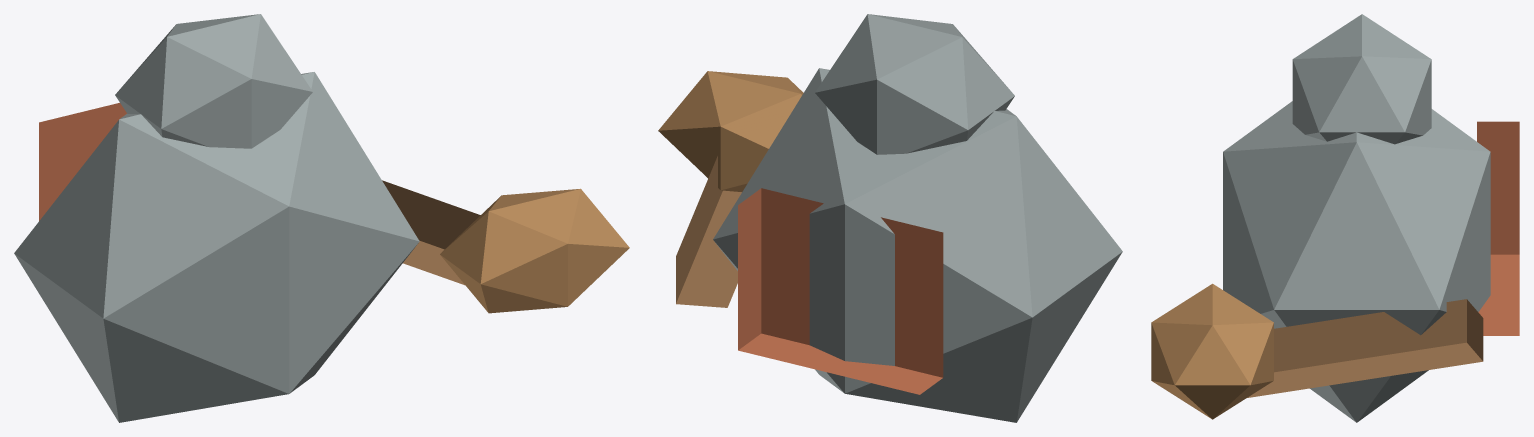
The model's file is enemy_brute.glb.
3 views of the same model, side by side, from view 1: azimuth 30°, elevation 25°; view 2: azimuth 150°, elevation 25°; view 3: azimuth 270°, elevation 25° (orthographic). The views are drawn at different scales.
Parts seen in each view (by area): view 1: body, head, club_head, chest_plate, club; view 2: body, chest_plate, head, club_head, club; view 3: body, head, club, club_head, chest_plate.
Part boxes in pixels (bbox=[...]): body: bbox=[14, 72, 419, 422]; head: bbox=[115, 14, 312, 148]; club_head: bbox=[440, 188, 629, 313]; chest_plate: bbox=[39, 102, 126, 220]; club: bbox=[382, 180, 480, 285]; body: bbox=[713, 68, 1122, 422]; chest_plate: bbox=[738, 188, 943, 394]; head: bbox=[815, 14, 1014, 154]; club_head: bbox=[658, 71, 803, 191]; club: bbox=[676, 156, 741, 307]; body: bbox=[1223, 101, 1490, 422]; head: bbox=[1292, 14, 1431, 144]; club: bbox=[1247, 299, 1483, 397]; club_head: bbox=[1151, 283, 1273, 419]; chest_plate: bbox=[1477, 121, 1519, 335].
Size of the model in its own units: 1.89 by 1.42 by 1.38.
